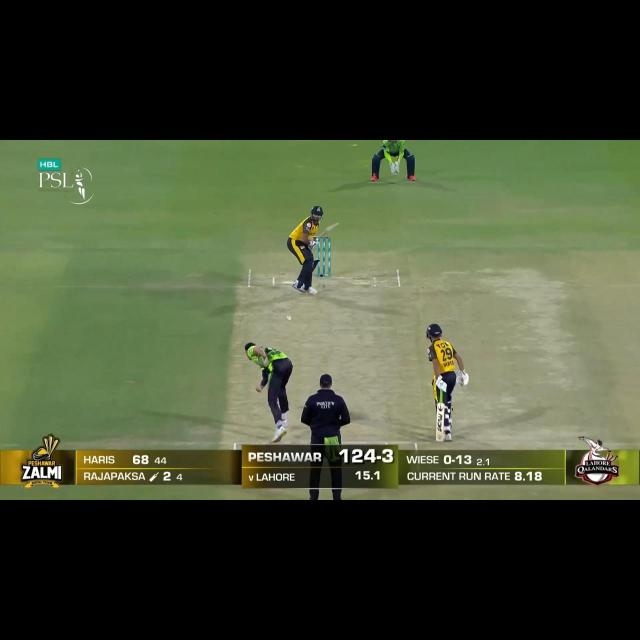bat: (316, 223, 340, 237), (436, 404, 444, 442)
toe: (436, 436, 445, 440), (334, 222, 340, 226)
